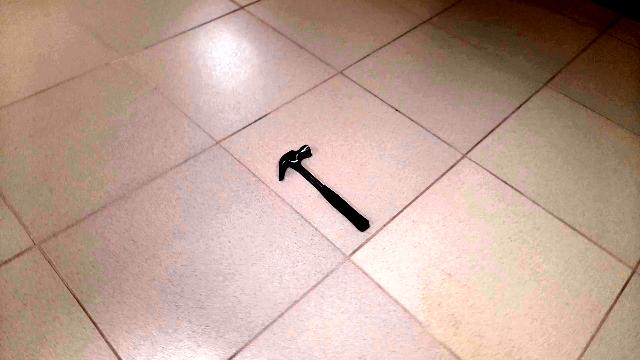hammer: (270, 134, 372, 235)
